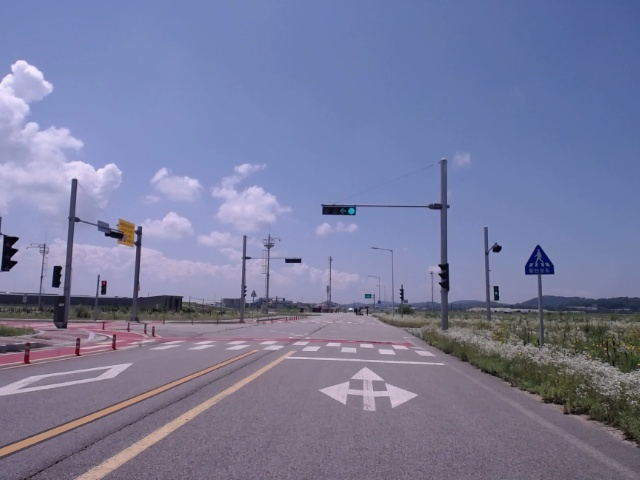all_green_4: (323, 205, 357, 215)
